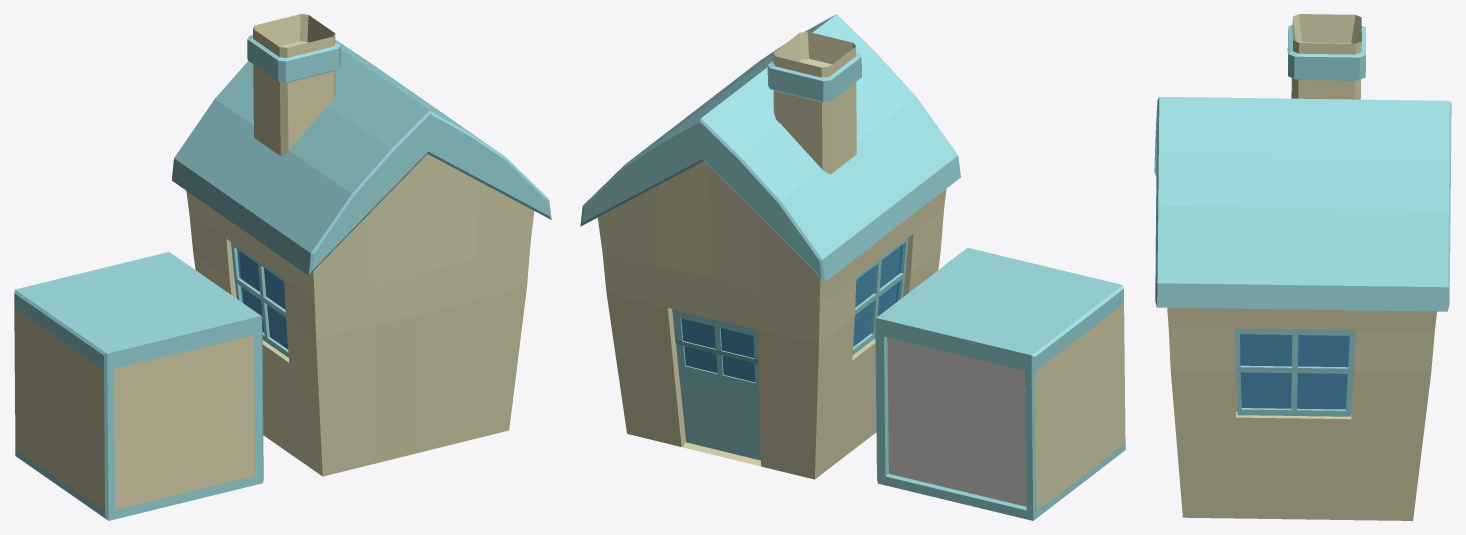
File: house2.fbx
3 views of the same model, side by side, from view 1: azimuth 30°, elevation 25°; view 2: azimuth 150°, elevation 25°; view 3: azimuth 270°, elevation 25° (orthographic). The views are drawn at different scales.
Visible parts, largest first — view 1: polySurface149; view 2: polySurface149; view 3: polySurface149.
Part boxes in pixels (x1,y1,x2,y2): polySurface149: (14, 14, 551, 520); polySurface149: (580, 14, 1125, 520); polySurface149: (1154, 14, 1451, 520).
Bounding box in the file's own units: 2.74 × 2.39 × 1.54.
